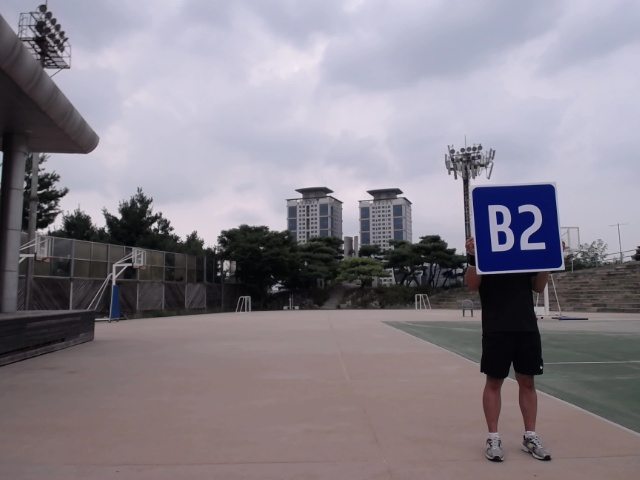delivery_b2: (470, 184, 566, 275)
